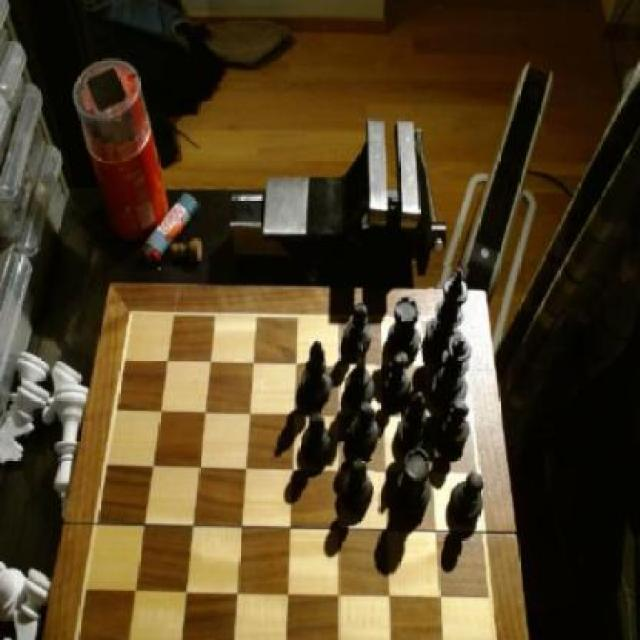bishop: (300, 338, 335, 412), (402, 391, 432, 454)
black-bishop: (426, 264, 469, 360)
black-king: (346, 343, 377, 411)
black-knight: (346, 402, 382, 459), (451, 471, 486, 527), (440, 395, 473, 453), (343, 303, 376, 356), (302, 412, 334, 464), (383, 352, 412, 406), (344, 462, 374, 512)
black-pawn: (428, 329, 473, 407)
black-queen: (397, 446, 435, 522), (389, 297, 423, 362)
